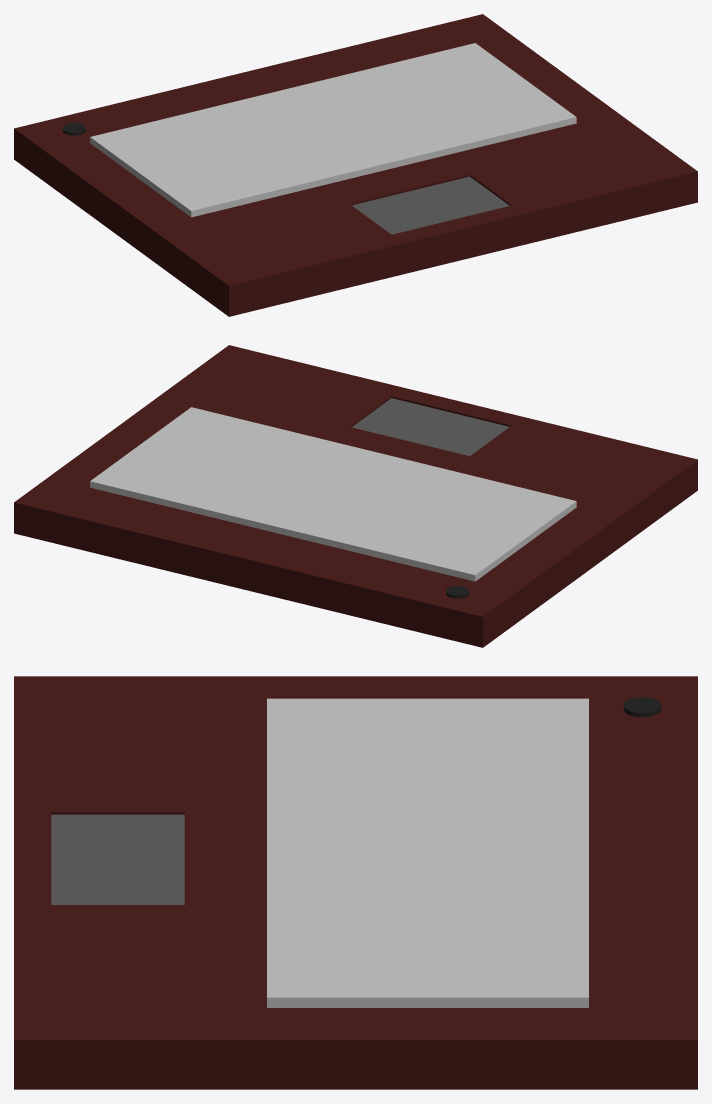
File: Itr_Obj_Laptop_Board_02.FBX
The picture shows the model from 3 angles, top to bottom: view 1: azimuth 30°, elevation 25°; view 2: azimuth 150°, elevation 25°; view 3: azimuth 270°, elevation 25°; orthographic projection. The views are drawn at different scales.
Parts seen in each view (by area): view 1: Itr_Obj_Laptop_Board_02; view 2: Itr_Obj_Laptop_Board_02; view 3: Itr_Obj_Laptop_Board_02.
Boxes of the visible parts, x1,y1,x2,y2 form: Itr_Obj_Laptop_Board_02: (14,14,697,316); Itr_Obj_Laptop_Board_02: (14,345,697,647); Itr_Obj_Laptop_Board_02: (14,676,697,1089).
Size of the model in its own units: 29.1 by 2.22 by 23.12.
